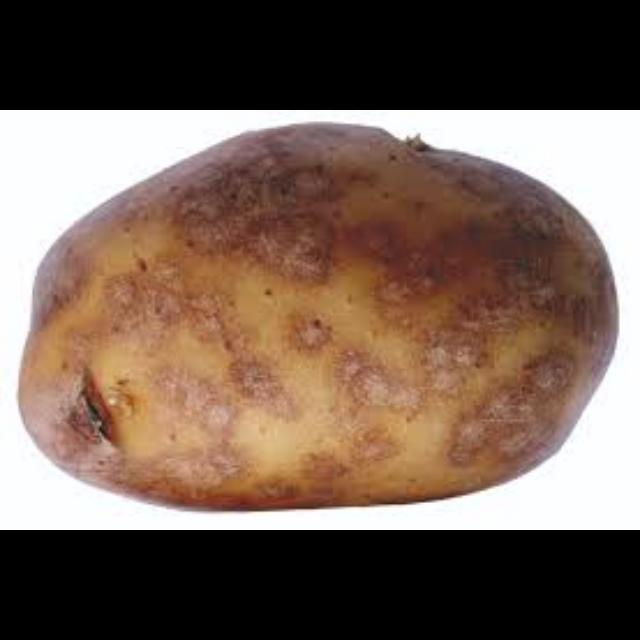Diseased-fungal potato: (14, 126, 616, 514)
